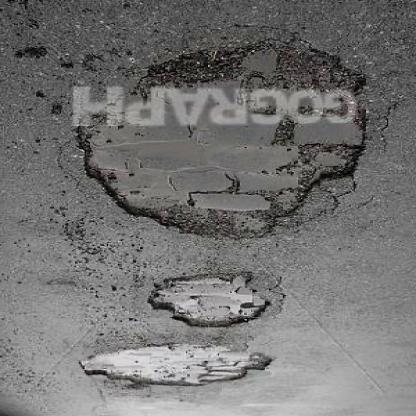pothole: (72, 29, 372, 241), (78, 343, 276, 387), (147, 268, 285, 329)
